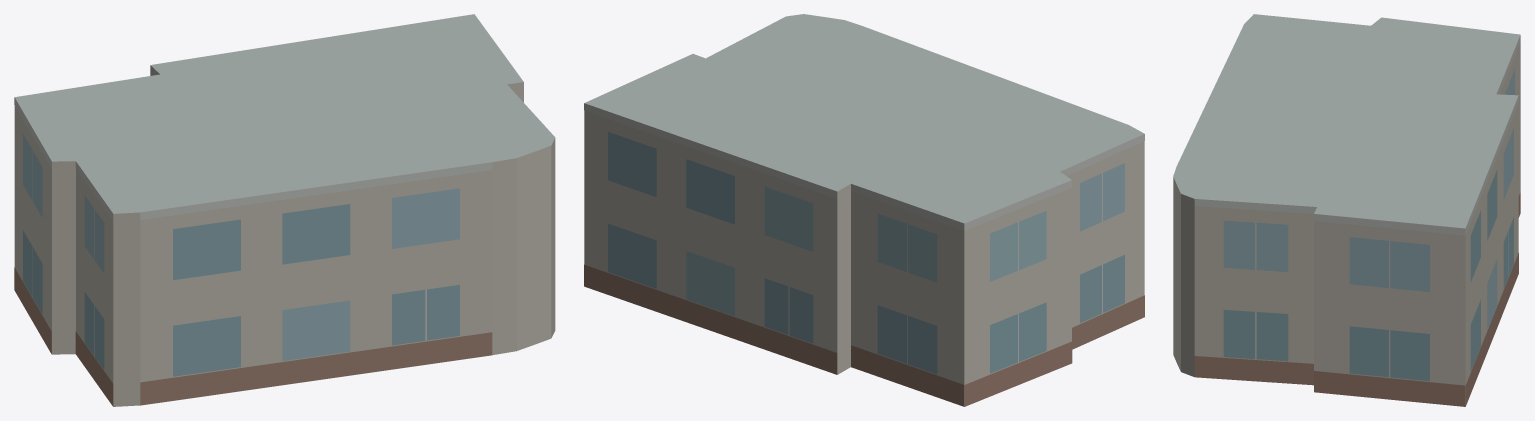
File: survey-upis-32915289.glb
3 views of the same model, side by side, from view 1: azimuth 30°, elevation 25°; view 2: azimuth 150°, elevation 25°; view 3: azimuth 270°, elevation 25° (orthographic). The views are drawn at different scales.
Visible parts, largest first — view 1: survey-upis-32915289.tmp; view 2: survey-upis-32915289.tmp; view 3: survey-upis-32915289.tmp.
Part boxes in pixels (<box>): survey-upis-32915289.tmp: <box>14,14,555,406</box>; survey-upis-32915289.tmp: <box>584,14,1144,406</box>; survey-upis-32915289.tmp: <box>1173,14,1520,406</box>.
Size of the model in its own units: 15.74 by 6.1 by 10.77.
